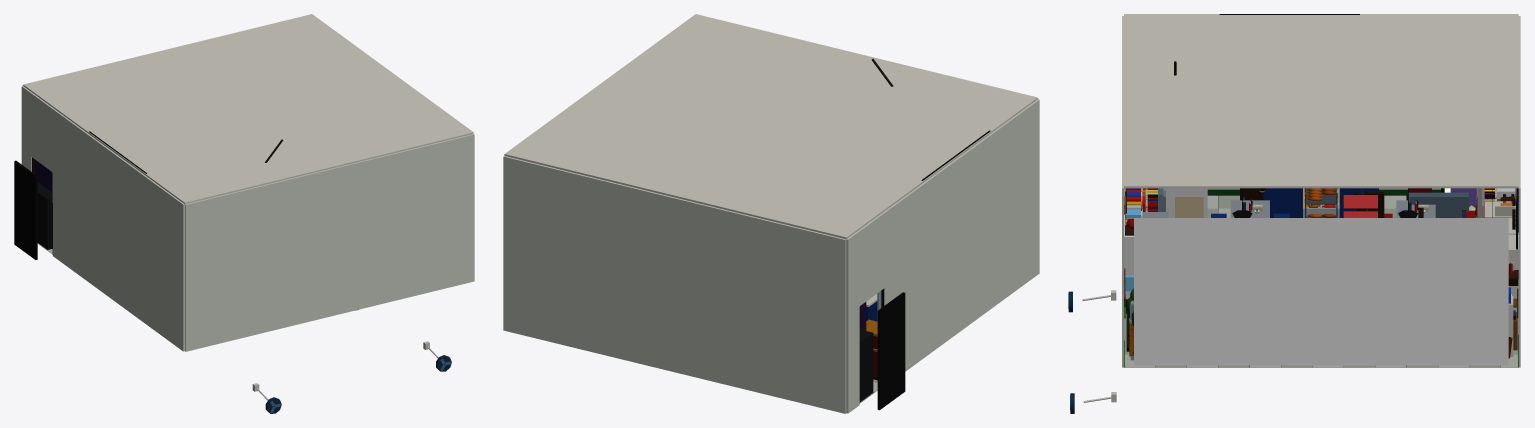
Rendered from OW_NoiThat_8_0.fbx.
The picture shows the model from 3 angles, left to right: view 1: azimuth 30°, elevation 25°; view 2: azimuth 150°, elevation 25°; view 3: azimuth 270°, elevation 25°; orthographic projection. The views are drawn at different scales.
Visible parts, largest first — view 1: NT_BachHoa, NT_TiemVang; view 2: NT_BachHoa, NT_TiemVang; view 3: NT_BachHoa, NT_BachHoa_Xa.002, NT_BanhMi, NT_BunBoHue, NT_NhaThuoc, NT_ThoiTrang, NT_NhaO_PhongKhach, NT_DienThoai, NT_NhaO_Salon, NT_NhaO_ViVong, NT_CaPhe, NT_SuaXe (+1 smaller).
Boxes of the visible parts, <box> form: NT_BachHoa: <box>14,14,474,351</box>; NT_TiemVang: <box>37,172,52,249</box>; NT_BachHoa: <box>503,14,1039,413</box>; NT_TiemVang: <box>859,291,881,402</box>; NT_BachHoa: <box>1122,14,1520,367</box>; NT_BachHoa_Xa.002: <box>1134,218,1508,365</box>; NT_BanhMi: <box>1129,188,1515,360</box>; NT_BunBoHue: <box>1068,197,1518,359</box>; NT_NhaThuoc: <box>1124,188,1513,356</box>; NT_ThoiTrang: <box>1142,188,1516,307</box>; NT_NhaO_PhongKhach: <box>1125,188,1468,344</box>; NT_DienThoai: <box>1124,188,1515,217</box>; NT_NhaO_Salon: <box>1240,188,1517,358</box>; NT_NhaO_ViVong: <box>1343,188,1492,217</box>; NT_CaPhe: <box>1124,188,1517,318</box>; NT_SuaXe: <box>1070,188,1518,413</box>.
Size of the model in its own units: 8.28 by 5.92 by 8.65.
